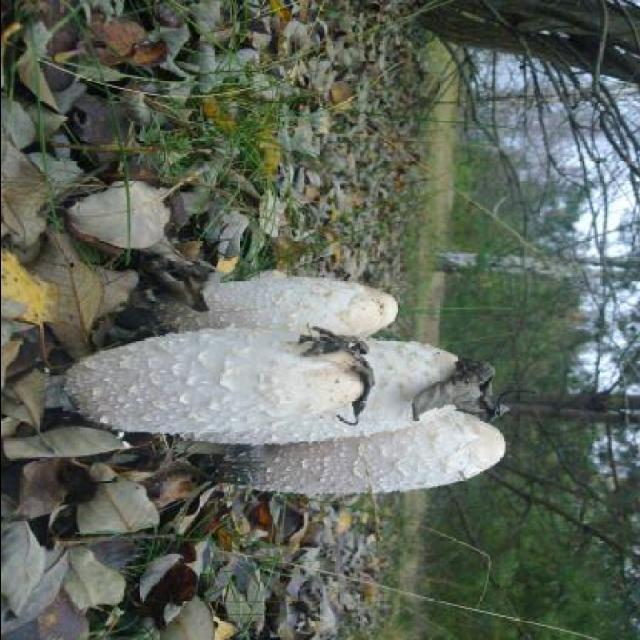Mushroom: (45, 329, 364, 434), (175, 338, 462, 448), (199, 412, 507, 494), (152, 278, 396, 344)
